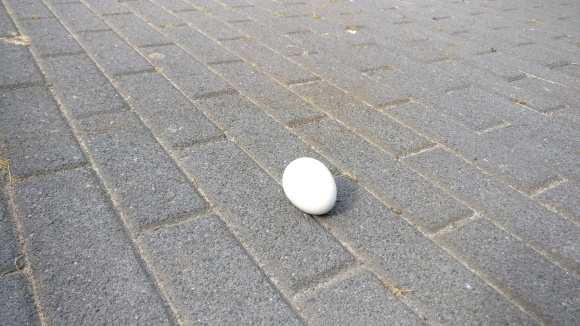egg: (283, 156, 338, 217)
